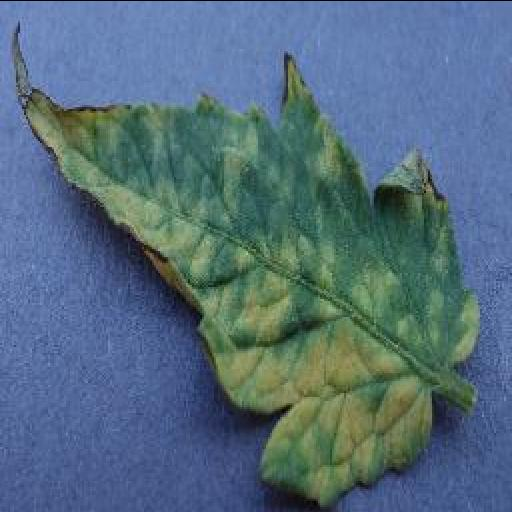disease_tomato: (9, 19, 482, 512)
